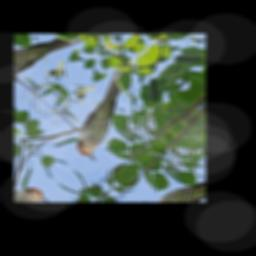Cuckoo: (49, 56, 171, 164)
